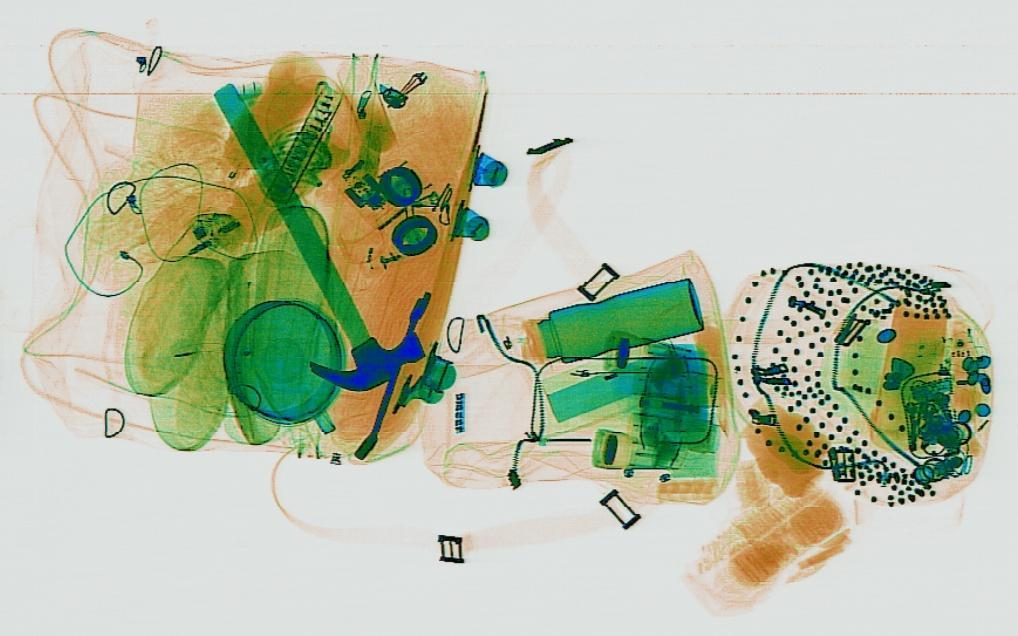wrench: (353, 291, 432, 461)
